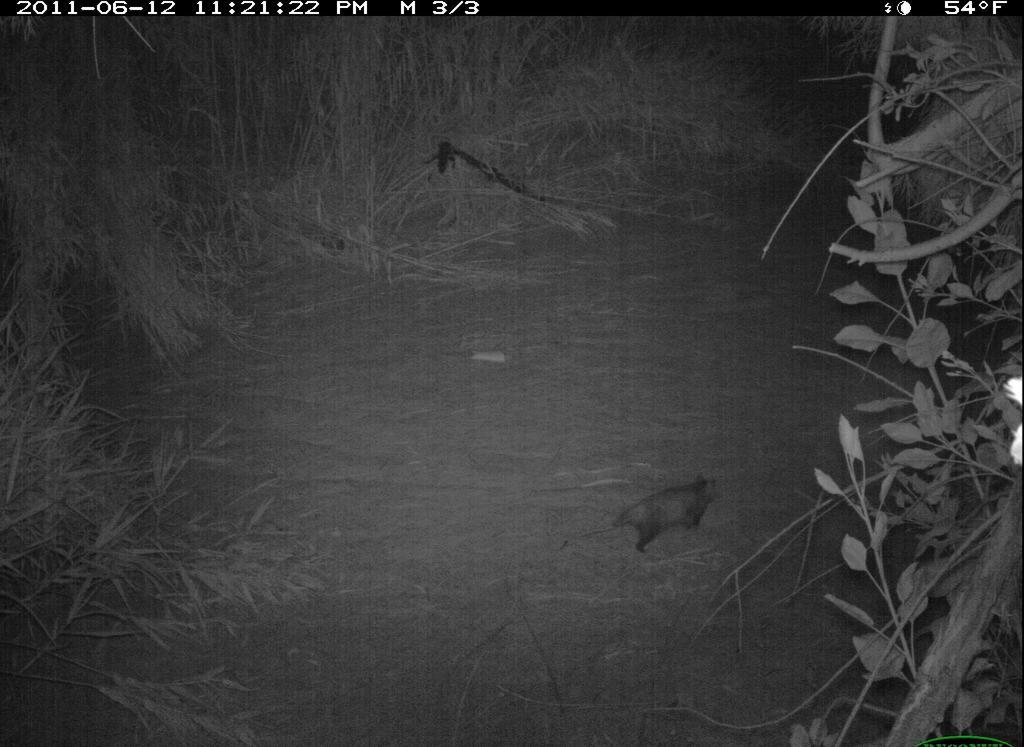opossum: (598, 461, 730, 570)
